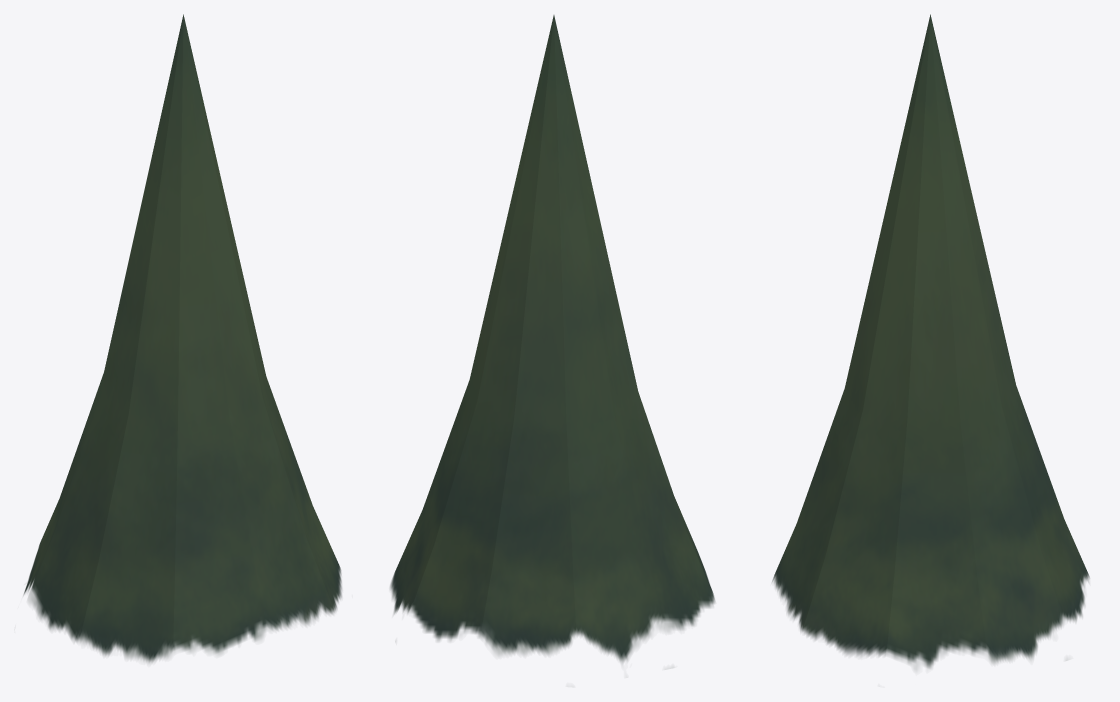
File: polysurface121_lambert6_0_lev2.glb
3 views of the same model, side by side, from view 1: azimuth 30°, elevation 25°; view 2: azimuth 150°, elevation 25°; view 3: azimuth 270°, elevation 25° (orthographic).
Parts seen in each view (by area): view 1: polysurface121_lambert6_0_lev2; view 2: polysurface121_lambert6_0_lev2; view 3: polysurface121_lambert6_0_lev2.
Boxes of the visible parts, x1,y1,x2,y2 form: polysurface121_lambert6_0_lev2: [23, 14, 341, 663]; polysurface121_lambert6_0_lev2: [390, 15, 715, 663]; polysurface121_lambert6_0_lev2: [772, 14, 1089, 669].
Bounding box in the file's own units: 2.64 × 5.19 × 2.74.
Materials: 1 (1 with a texture image).
